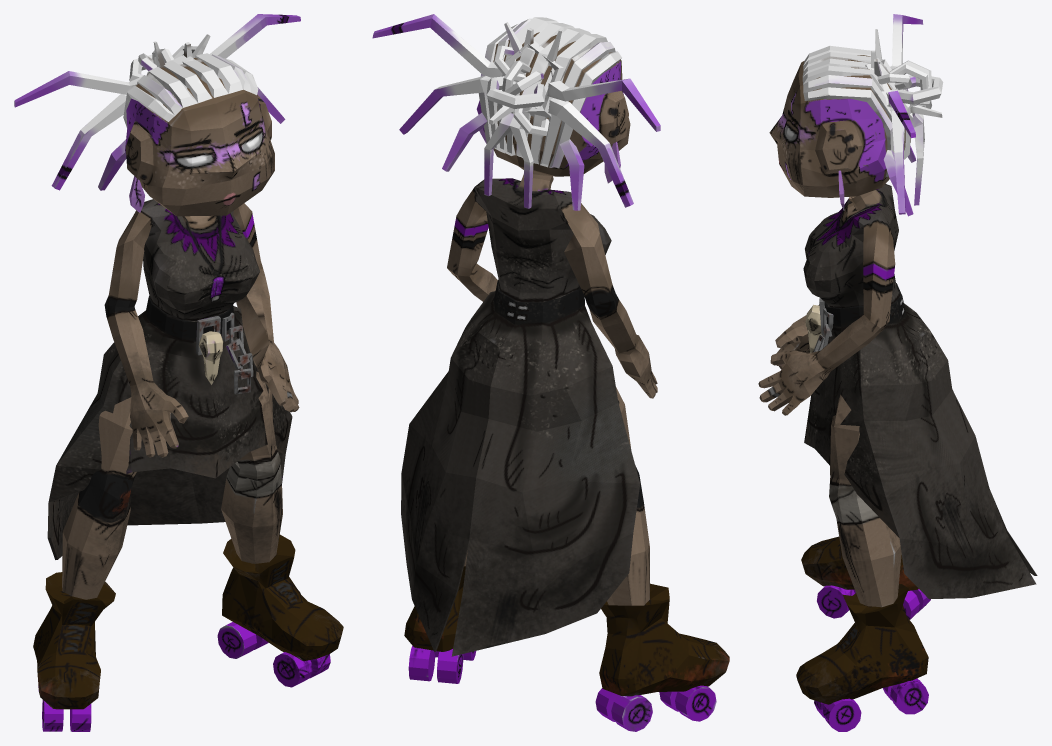
The model's file is bruja_000039.obj.
3 views of the same model, side by side, from view 1: azimuth 30°, elevation 25°; view 2: azimuth 150°, elevation 25°; view 3: azimuth 270°, elevation 25° (orthographic). The views are drawn at different scales.
Visible parts, largest first — view 1: Bruja_Plane.001; view 2: Bruja_Plane.001; view 3: Bruja_Plane.001.
Boxes of the visible parts, <box> form: Bruja_Plane.001: <box>14,14,343,731</box>; Bruja_Plane.001: <box>372,14,729,731</box>; Bruja_Plane.001: <box>758,14,1037,731</box>.
Bounding box in the file's own units: 7.99 × 16.49 × 6.58.
